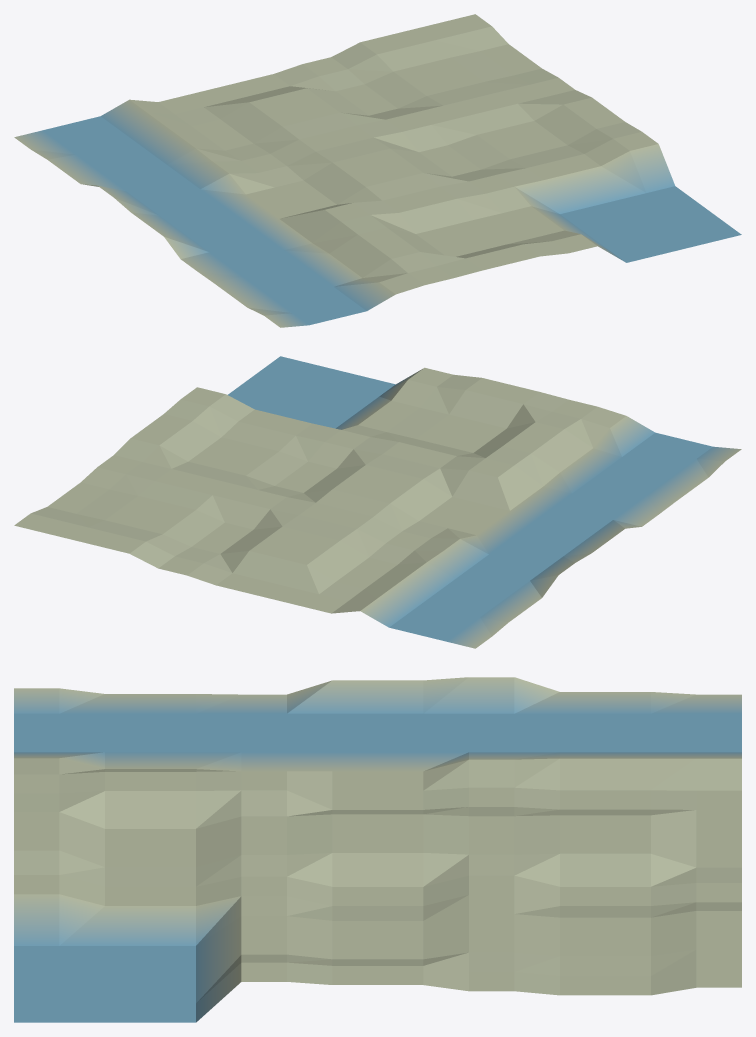
3 renders of one model, top to bottom at view 1: azimuth 30°, elevation 25°; view 2: azimuth 150°, elevation 25°; view 3: azimuth 270°, elevation 25°, orthographic. The views are drawn at different scales.
Bounding box in the file's own units: 32 × 1.99 × 32.
